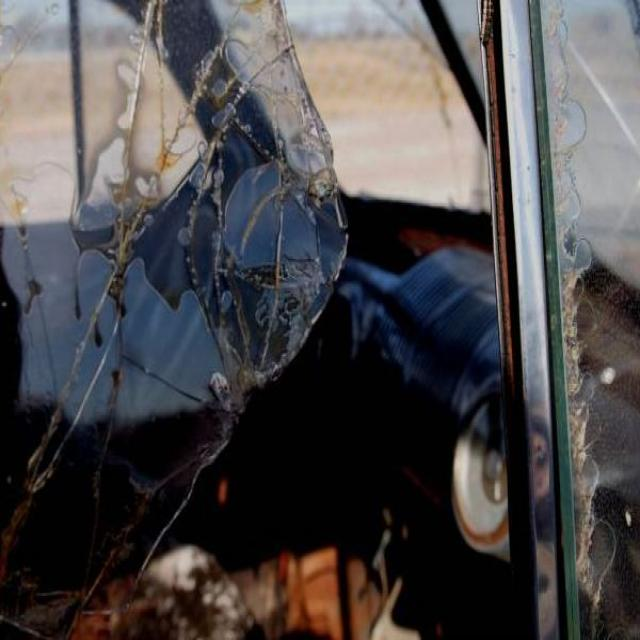electronic: (0, 0, 349, 640)
